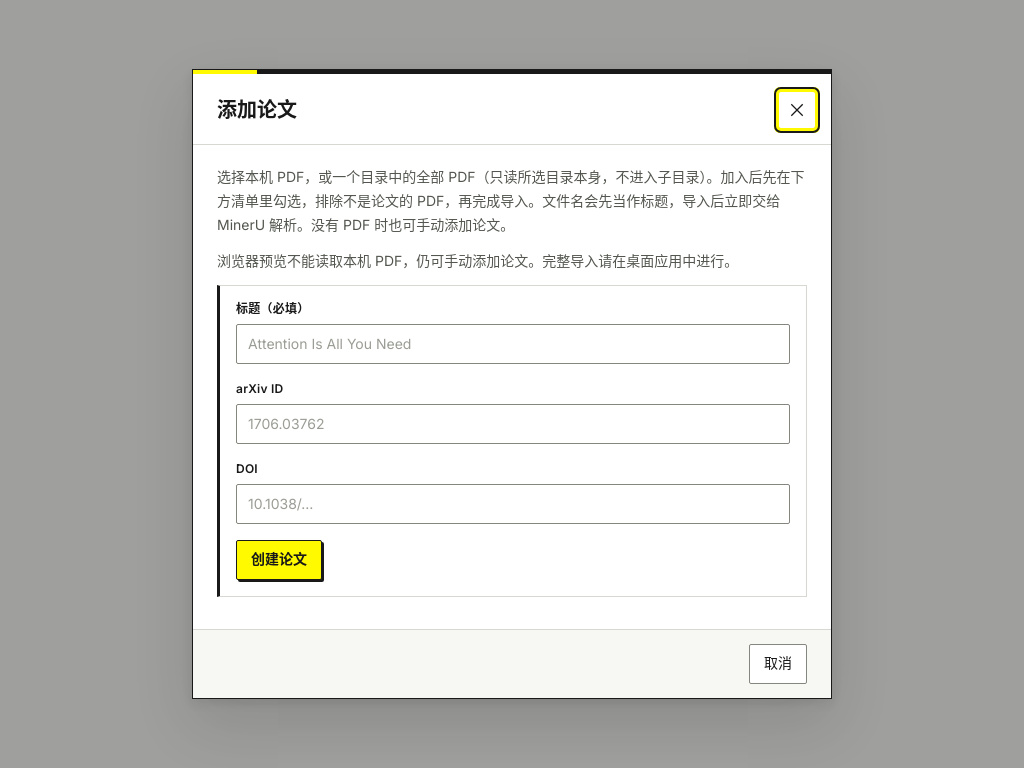
it: PaperDialog · 手动添加表单校验 › 标题为空时保存被拦，显示中文提示
Click the button "创建论文".
click(279, 560)  # box [236, 540, 322, 580]
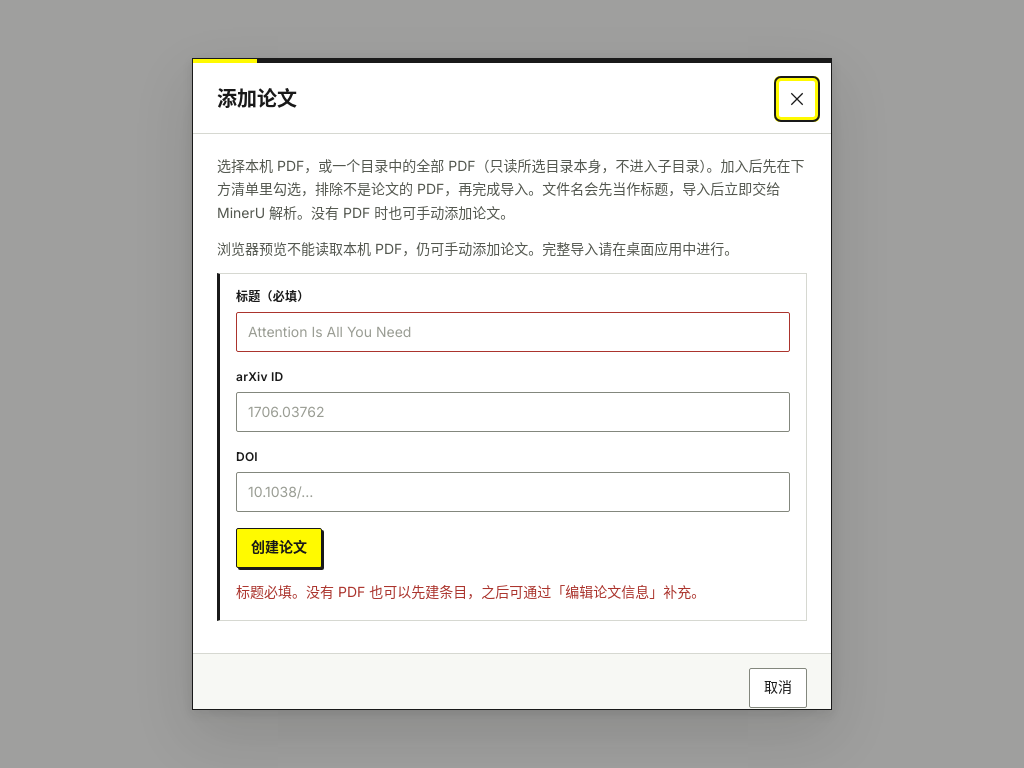
expect the text "标题必填。没有 PDF 也可以先建条目，之后可通过「编辑论文信息」补充。" is shown: met, box [236, 583, 705, 600]
